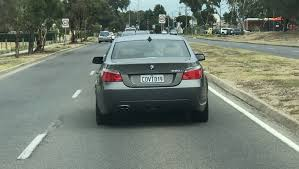number_plate: (136, 74, 168, 87)
